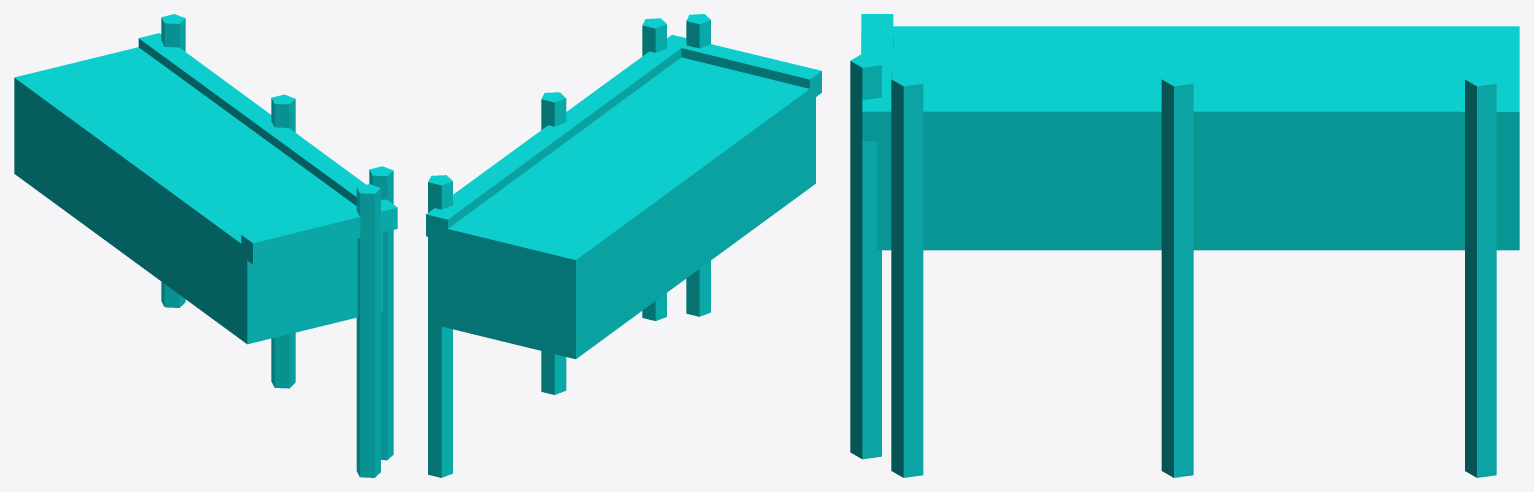
File: SM_Bld_Background_Dock_06_Collision.fbx
The picture shows the model from 3 angles, left to right: view 1: azimuth 30°, elevation 25°; view 2: azimuth 150°, elevation 25°; view 3: azimuth 270°, elevation 25°; orthographic projection. The views are drawn at different scales.
Visible parts, largest first — view 1: SM_Bld_Background_Dock_06_Collision; view 2: SM_Bld_Background_Dock_06_Collision; view 3: SM_Bld_Background_Dock_06_Collision.
Boxes of the visible parts, x1,y1,x2,y2 form: SM_Bld_Background_Dock_06_Collision: [14, 14, 397, 477]; SM_Bld_Background_Dock_06_Collision: [426, 14, 821, 477]; SM_Bld_Background_Dock_06_Collision: [850, 14, 1519, 477].
Bounding box in the file's own units: 405 × 706 × 1094.
